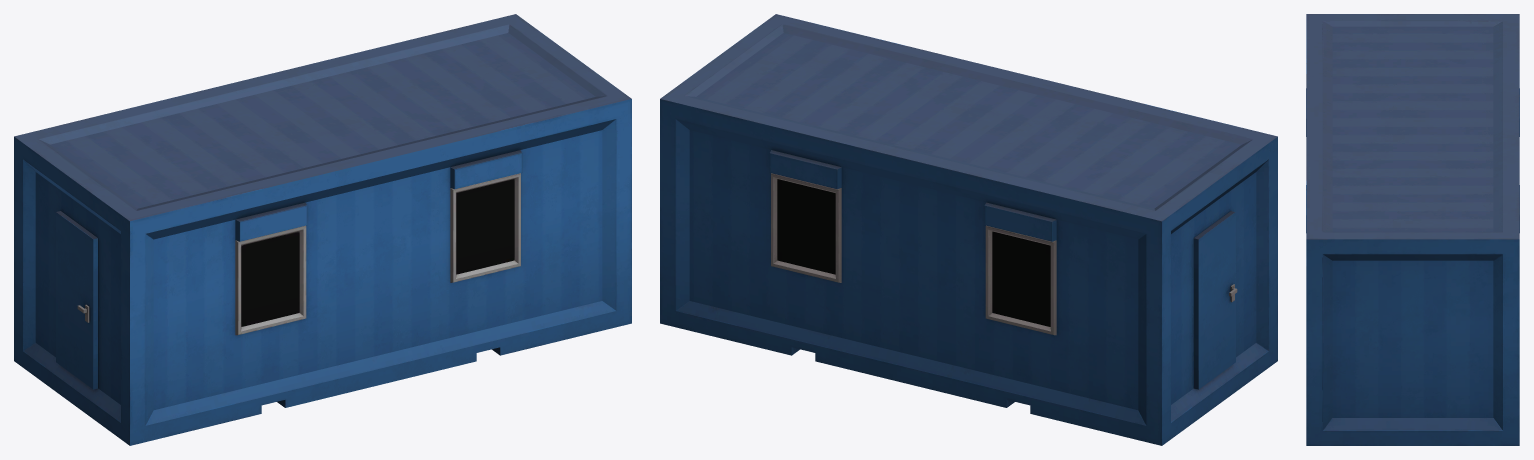
File: SM_Site_Container.FBX
3 views of the same model, side by side, from view 1: azimuth 30°, elevation 25°; view 2: azimuth 150°, elevation 25°; view 3: azimuth 270°, elevation 25° (orthographic). The views are drawn at different scales.
Visible parts, largest first — view 1: SM_Site_Container; view 2: SM_Site_Container; view 3: SM_Site_Container.
Part boxes in pixels (bbox=[...]): SM_Site_Container: bbox=[14, 14, 631, 445]; SM_Site_Container: bbox=[660, 14, 1277, 445]; SM_Site_Container: bbox=[1306, 14, 1519, 445].
Bounding box in the file's own units: 533 × 212 × 227.
